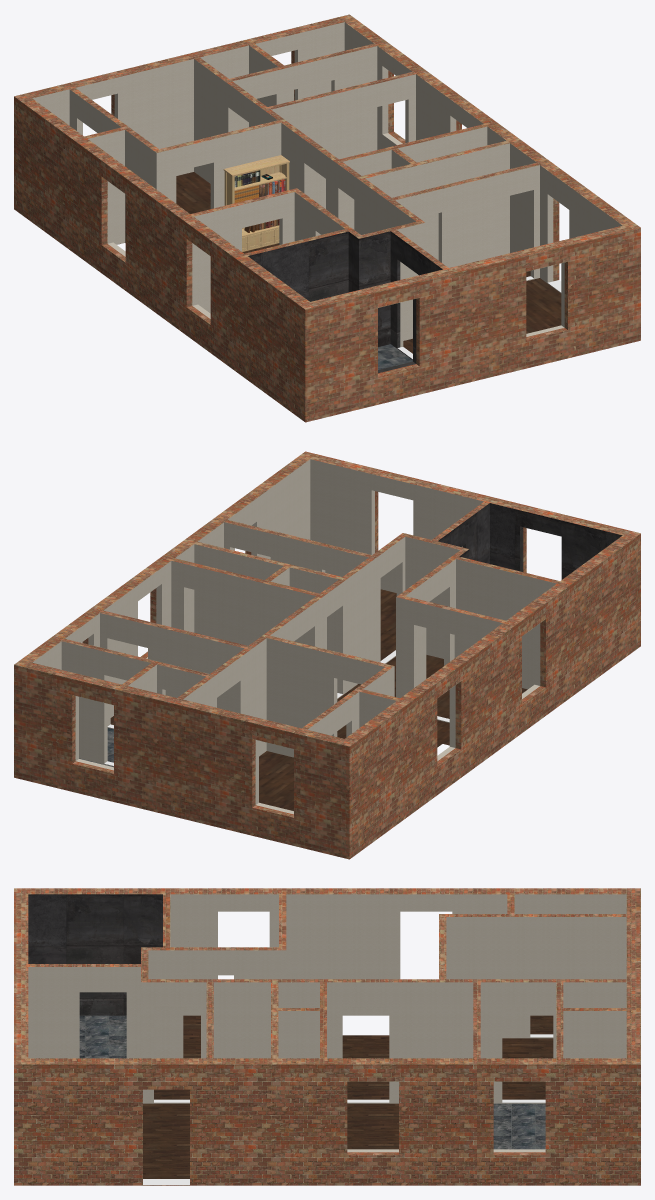
3 views of the same model, one above another, from view 1: azimuth 30°, elevation 25°; view 2: azimuth 150°, elevation 25°; view 3: azimuth 270°, elevation 25° (orthographic). The views are drawn at different scales.
Visible parts, largest first — view 1: geometry_rs-2881.014, geometry_rs-3780.010, geometry_rs-3780.012, geometry_rs-3780.013, geometry_rs-13700.002, geometry_rs-3780.014, geometry_wallTop.016, geometry_rs-3780.011, geometry_rs-2881.007, geometry_rs-3780.015, geometry_rs-13468, geometry_rs-2881.008 (+18 smaller); view 2: geometry_rs-2881.014, geometry_rs-3780.007, geometry_rs-3780.013, geometry_rs-3780.003, geometry_rs-2881.010, geometry_rs-3780.014, geometry_wallTop.016, geometry_rs-3780.011, geometry_rs-3780.006, geometry_rs-3780.009, geometry_rs-3780.015, geometry_rs-13700 (+15 smaller); view 3: geometry_rs-2881.014, geometry_rs-3780.008, geometry_rs-3780.002, geometry_rs-2881.012, geometry_rs-13468, geometry_rs-13700.001, geometry_rs-3780.001, geometry_wallTop.016, geometry_rs-3780.005, geometry_rs-3780, geometry_rs-3780.004, geometry_rs-2881.011 (+17 smaller).
Part boxes in pixels (x1=…): geometry_rs-2881.014: x1=69, y1=45, x2=539, y2=347; geometry_rs-3780.010: x1=452, y1=228, x2=640, y2=386; geometry_rs-3780.012: x1=305, y1=274, x2=452, y2=422; geometry_rs-3780.013: x1=74, y1=141, x2=180, y2=330; geometry_rs-13700.002: x1=248, y1=231, x2=442, y2=359; geometry_rs-3780.014: x1=234, y1=258, x2=305, y2=421; geometry_wallTop.016: x1=70, y1=43, x2=540, y2=269; geometry_rs-3780.011: x1=14, y1=96, x2=74, y2=252; geometry_rs-2881.007: x1=76, y1=59, x2=193, y2=175; geometry_rs-3780.015: x1=180, y1=218, x2=234, y2=369; geometry_rs-13468: x1=119, y1=172, x2=561, y2=353; geometry_rs-2881.008: x1=540, y1=165, x2=622, y2=292; geometry_rs-2881.014: x1=61, y1=522, x2=556, y2=766; geometry_rs-3780.007: x1=173, y1=703, x2=297, y2=846; geometry_rs-3780.013: x1=410, y1=625, x2=515, y2=814; geometry_rs-3780.003: x1=14, y1=665, x2=118, y2=802; geometry_rs-2881.010: x1=310, y1=459, x2=483, y2=592; geometry_rs-3780.014: x1=570, y1=533, x2=640, y2=697; geometry_wallTop.016: x1=60, y1=501, x2=560, y2=730; geometry_rs-3780.011: x1=349, y1=702, x2=409, y2=858; geometry_rs-3780.006: x1=118, y1=690, x2=173, y2=816; geometry_rs-3780.009: x1=297, y1=734, x2=349, y2=859; geometry_rs-3780.015: x1=516, y1=585, x2=569, y2=737; geometry_rs-13700: x1=490, y1=503, x2=622, y2=579; geometry_rs-2881.014: x1=28, y1=917, x2=626, y2=1103; geometry_rs-3780.008: x1=14, y1=1064, x2=210, y2=1185; geometry_rs-3780.002: x1=323, y1=1064, x2=476, y2=1185; geometry_rs-2881.012: x1=286, y1=894, x2=507, y2=1015; geometry_rs-13468: x1=143, y1=1015, x2=553, y2=1178; geometry_rs-13700.001: x1=28, y1=894, x2=162, y2=1015; geometry_rs-3780.001: x1=560, y1=1064, x2=640, y2=1185; geometry_wallTop.016: x1=25, y1=893, x2=629, y2=1059; geometry_rs-3780.005: x1=210, y1=1064, x2=274, y2=1185; geometry_rs-3780: x1=477, y1=1064, x2=559, y2=1185; geometry_rs-3780.004: x1=274, y1=1064, x2=323, y2=1185; geometry_rs-2881.011: x1=514, y1=894, x2=626, y2=1015.
Bounding box in the file's own units: 8.71 × 2.8 × 13.1.
Materials: 17 (14 with a texture image).
